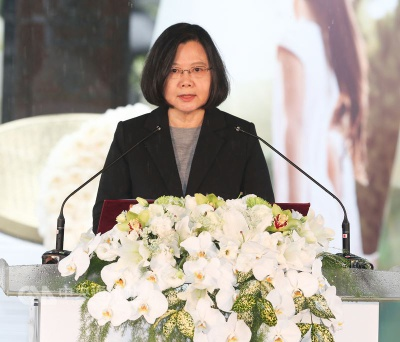female: (134, 18, 237, 124)
